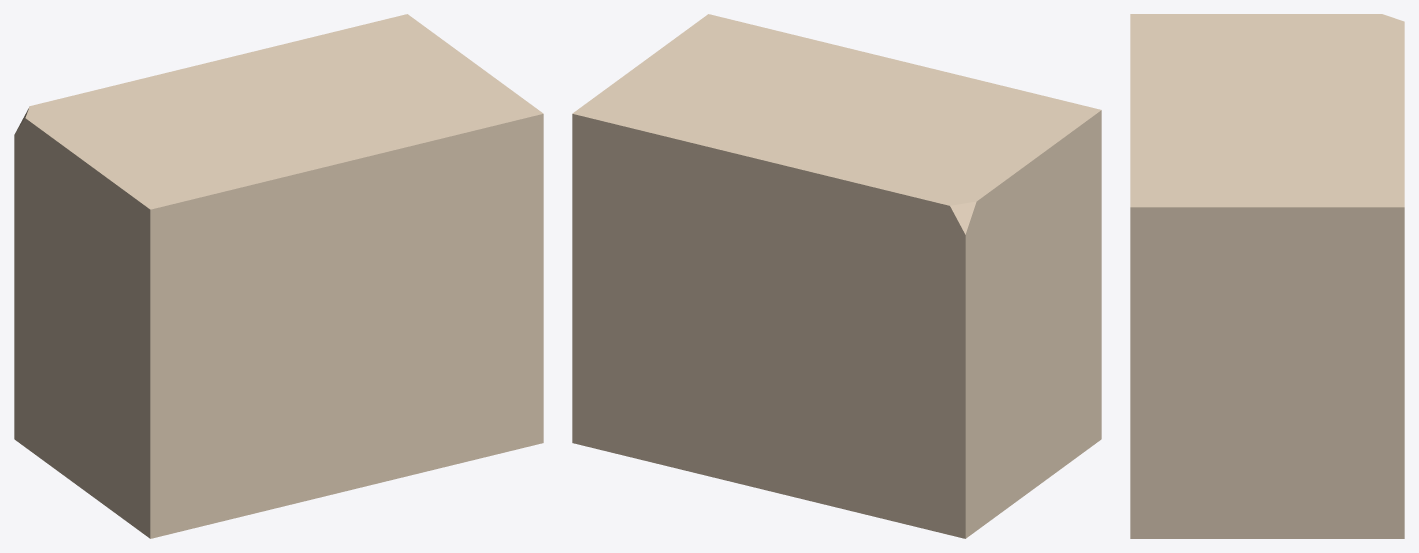
3 views of the same model, side by side, from view 1: azimuth 30°, elevation 25°; view 2: azimuth 150°, elevation 25°; view 3: azimuth 270°, elevation 25° (orthographic).
Visible parts, largest first — view 1: object2.004; view 2: object2.004; view 3: object2.004.
Boxes of the visible parts, x1=… form: object2.004: x1=14, y1=14, x2=543, y2=538; object2.004: x1=572, y1=14, x2=1101, y2=538; object2.004: x1=1130, y1=14, x2=1404, y2=538.
Bounding box in the file's own units: 0.25 × 0.2 × 0.15.
